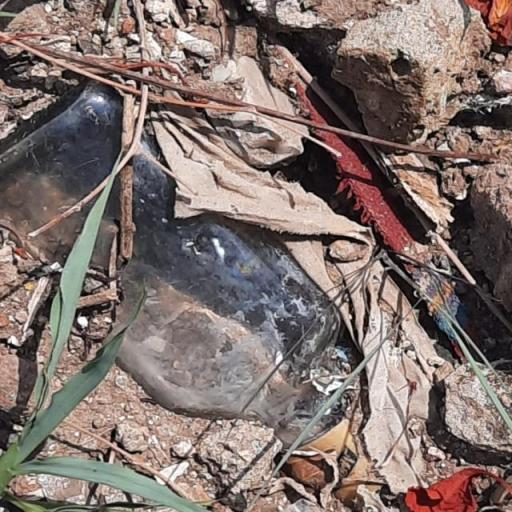glass: (0, 78, 359, 446)
